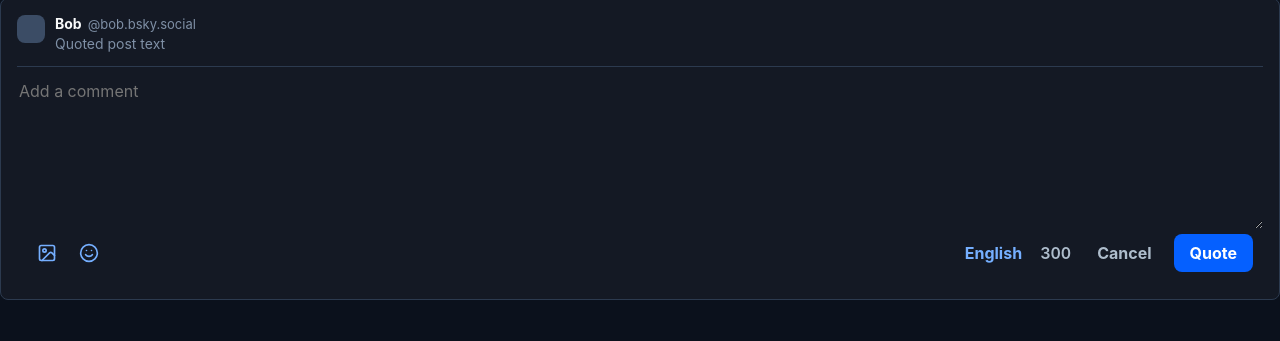
Scenario: PostComposer quote mode › surfaces the publish error when quoting fails
Step 1. Click the button "Quote" → x=1213, y=253, box [1174,234,1253,272]
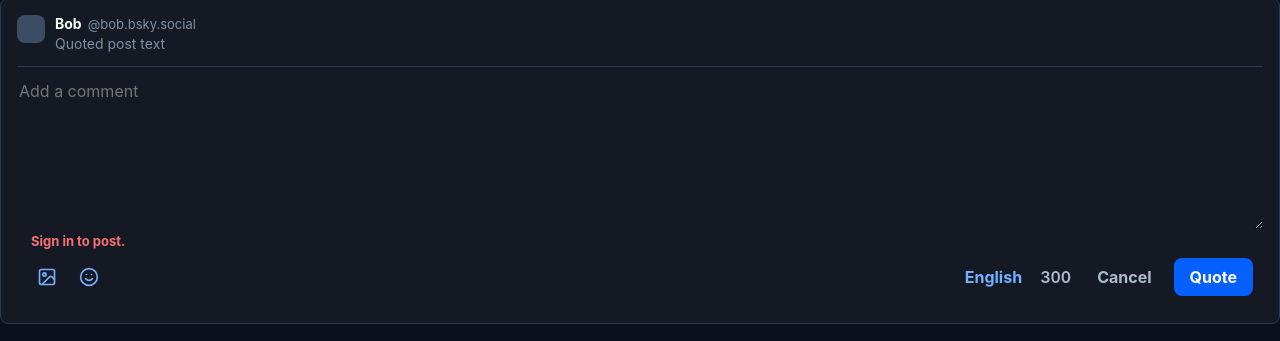
Now the message reads "Sign in to post.", box [31,233,125,249]
